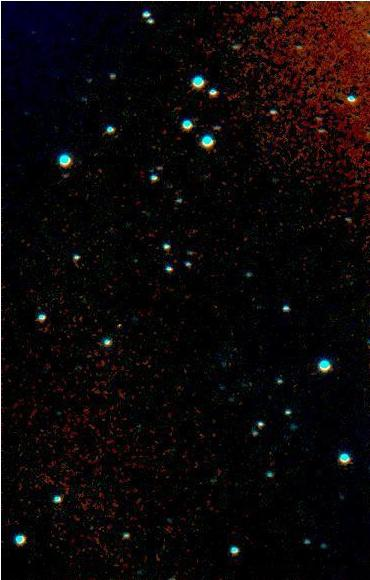star: (238, 369, 268, 399)
